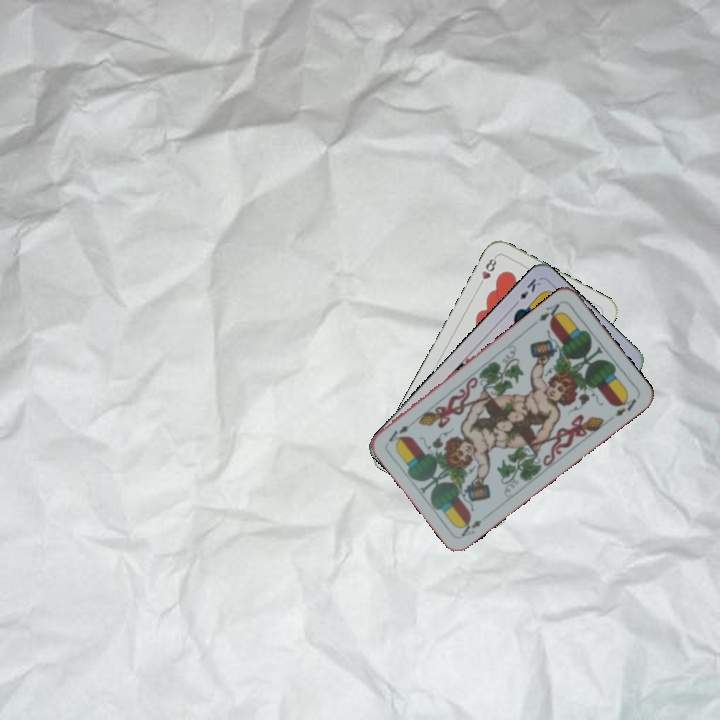EA: (534, 297, 565, 324), (456, 515, 485, 539)
EK: (510, 274, 544, 309)
H8: (474, 252, 499, 290)
